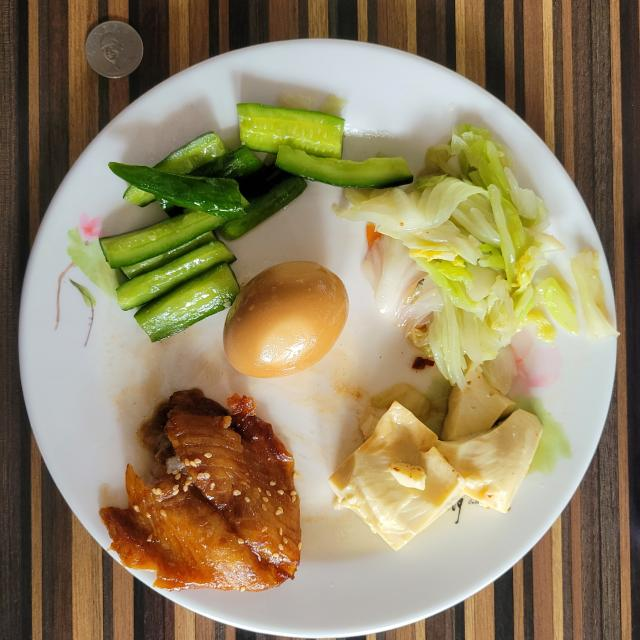Kabayaki sea bream fillet: (100, 389, 301, 591)
cabbage: (335, 125, 618, 390)
coin: (85, 21, 144, 79)
cucumber: (100, 104, 412, 340)
soy egg: (224, 261, 349, 378)
